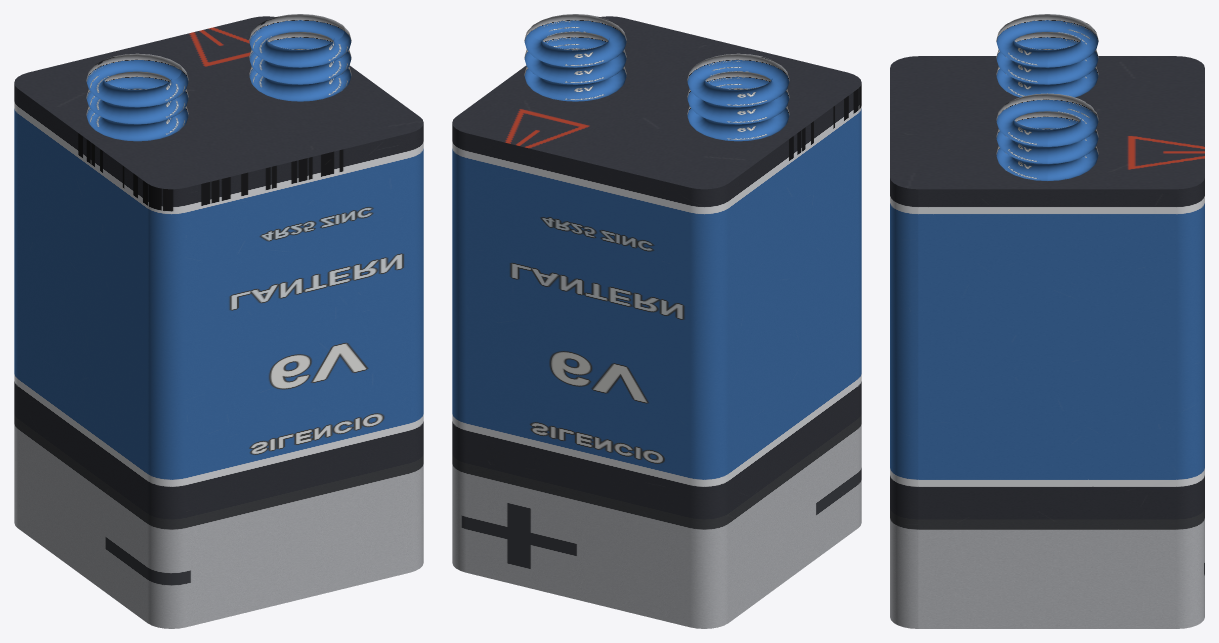
The model's file is baterai_6V_lantern.glb.
The picture shows the model from 3 angles, left to right: view 1: azimuth 30°, elevation 25°; view 2: azimuth 150°, elevation 25°; view 3: azimuth 270°, elevation 25°; orthographic projection.
Visible parts, largest first — view 1: 6V Lantern; view 2: 6V Lantern; view 3: 6V Lantern.
Boxes of the visible parts, left/top/right/bottom form: 6V Lantern: left=14, top=14, right=423, bottom=628; 6V Lantern: left=452, top=14, right=861, bottom=628; 6V Lantern: left=890, top=14, right=1204, bottom=628.
Size of the model in its own units: 67 by 115 by 67.
Materials: 1 (1 with a texture image).
